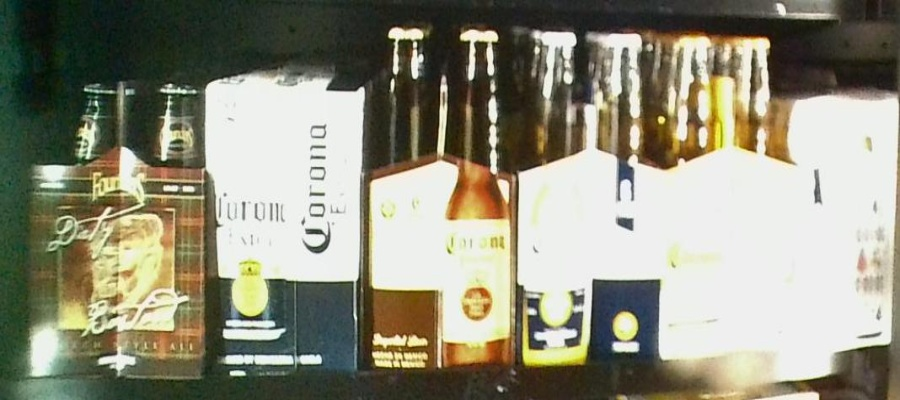bottle: (26, 82, 209, 381), (367, 23, 516, 372), (520, 22, 665, 370), (204, 71, 362, 374), (669, 24, 791, 369), (796, 97, 893, 352)
